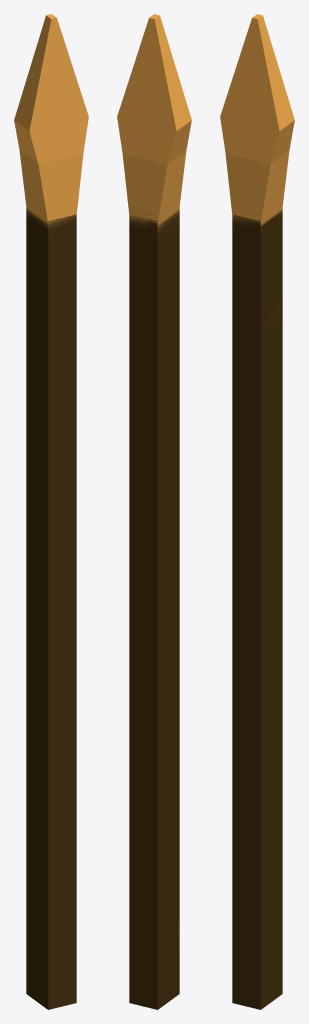
The model's file is spear.fbx.
The picture shows the model from 3 angles, left to right: view 1: azimuth 30°, elevation 25°; view 2: azimuth 150°, elevation 25°; view 3: azimuth 330°, elevation 25°; orthographic projection.
Parts seen in each view (by area): view 1: Cube; view 2: Cube; view 3: Cube.
Part boxes in pixels (x1=…): Cube: x1=14, y1=14, x2=88, y2=1009; Cube: x1=117, y1=14, x2=191, y2=1009; Cube: x1=220, y1=14, x2=294, y2=1009.
Size of the model in its own units: 40.18 by 634 by 25.43.
1 material, 1 textured.
